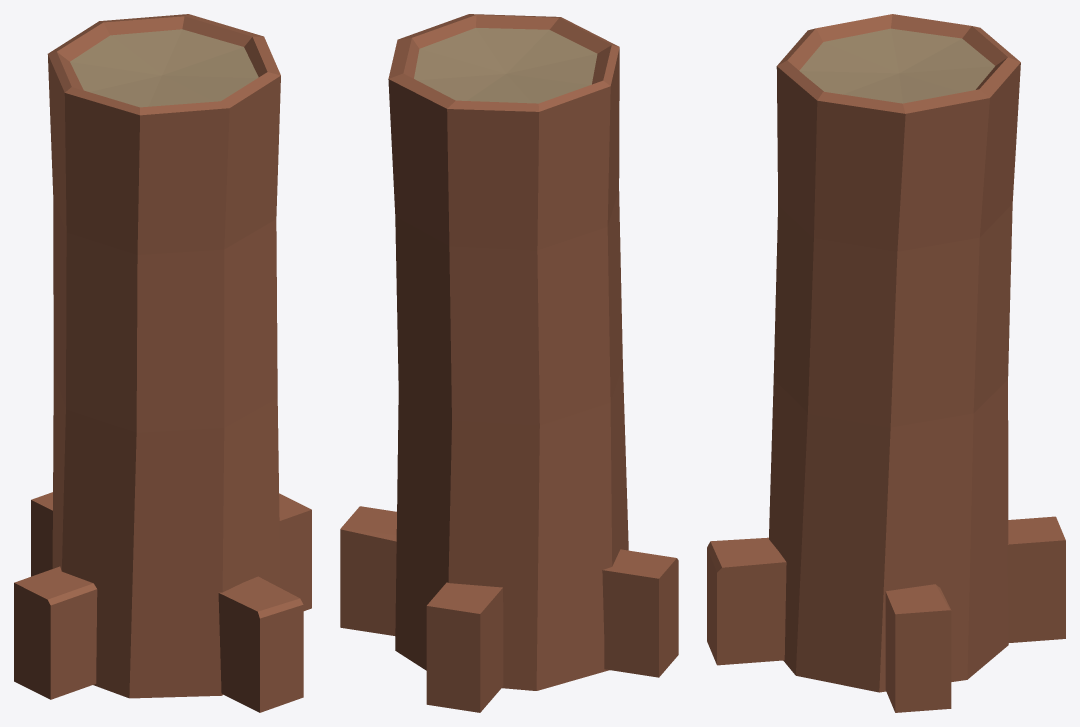
The model's file is LightWoodMechMediumIceScrewBase1.fbx.
3 renders of one model, left to right at view 1: azimuth 30°, elevation 25°; view 2: azimuth 150°, elevation 25°; view 3: azimuth 270°, elevation 25°, orthographic.
Visible parts, largest first — view 1: LightWoodMechMediumIceScrewBase1; view 2: LightWoodMechMediumIceScrewBase1; view 3: LightWoodMechMediumIceScrewBase1.
Boxes of the visible parts, left/top/right/bottom form: LightWoodMechMediumIceScrewBase1: left=14, top=14, right=311, bottom=712; LightWoodMechMediumIceScrewBase1: left=340, top=14, right=678, bottom=712; LightWoodMechMediumIceScrewBase1: left=707, top=14, right=1065, bottom=712.
Bounding box in the file's own units: 179 × 335 × 186.
